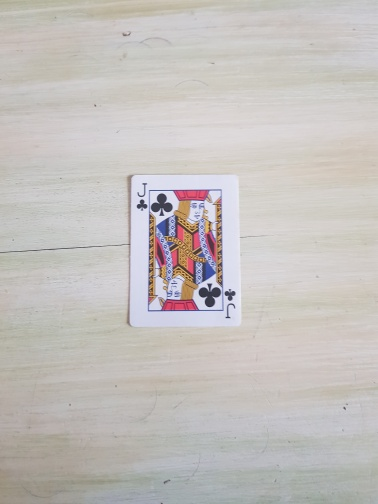jack: (126, 172, 243, 329)
